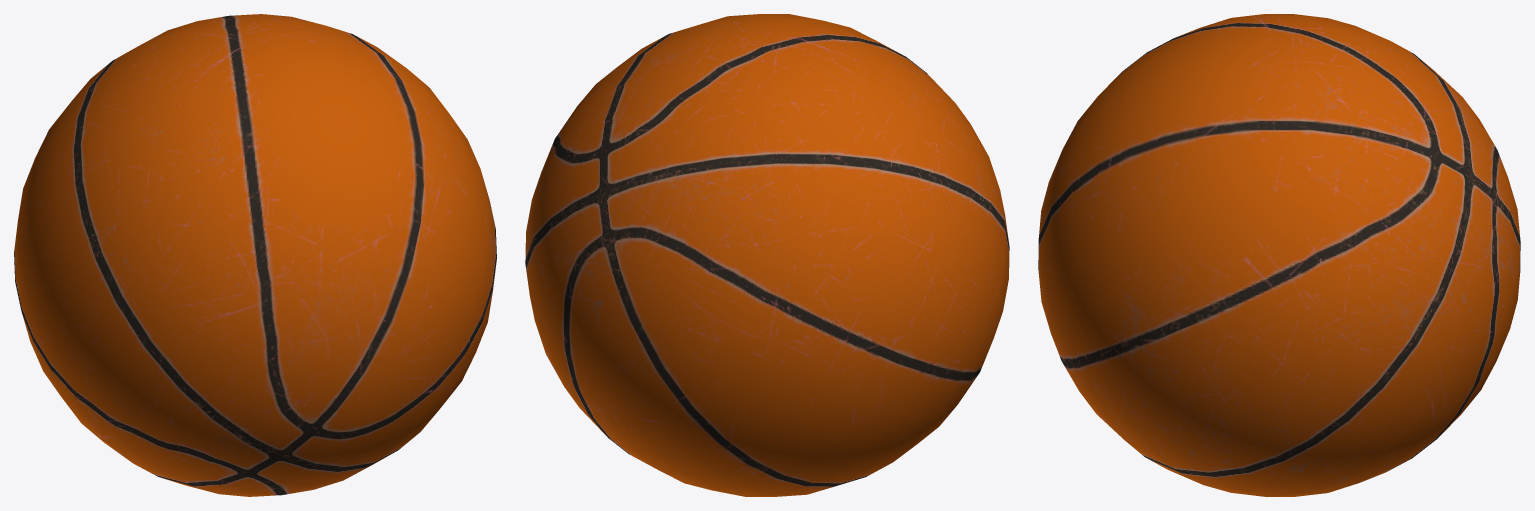
File: Lowpoly Basketball Ball.fbx
3 views of the same model, side by side, from view 1: azimuth 30°, elevation 25°; view 2: azimuth 150°, elevation 25°; view 3: azimuth 270°, elevation 25° (orthographic).
Visible parts, largest first — view 1: BasketBall_Low; view 2: BasketBall_Low; view 3: BasketBall_Low.
Part boxes in pixels (x1=…): BasketBall_Low: x1=14, y1=14, x2=496, y2=496; BasketBall_Low: x1=525, y1=14, x2=1009, y2=496; BasketBall_Low: x1=1038, y1=14, x2=1520, y2=496.
Size of the model in its own units: 23.91 by 23.87 by 23.86.
